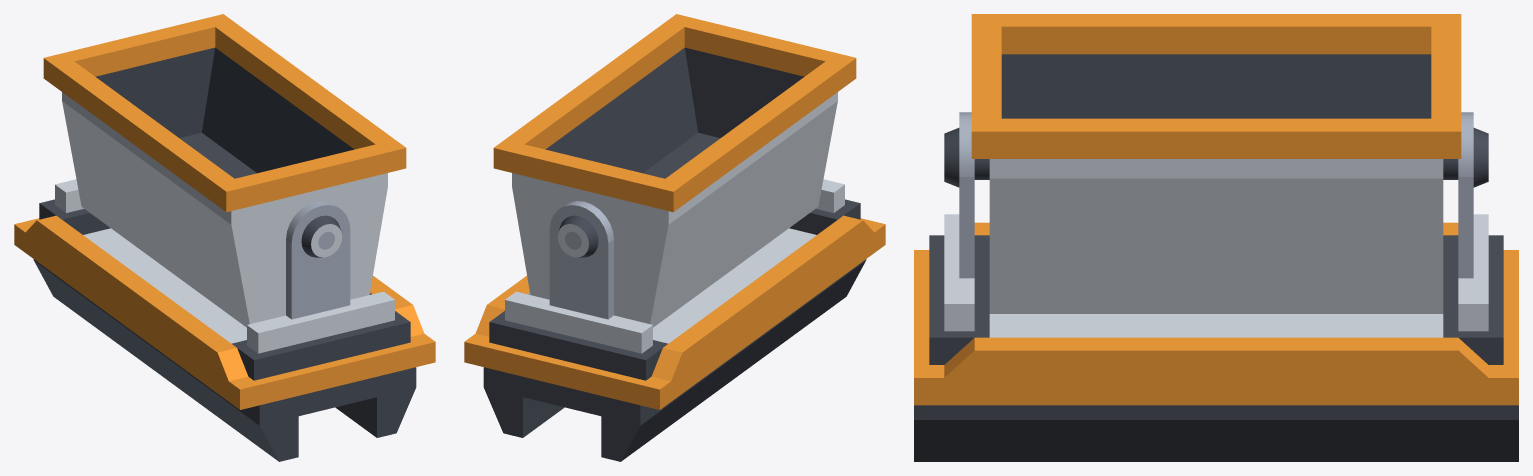
The model's file is monorail_trainCargo.obj.
The picture shows the model from 3 angles, left to right: view 1: azimuth 30°, elevation 25°; view 2: azimuth 150°, elevation 25°; view 3: azimuth 270°, elevation 25°; orthographic projection. The views are drawn at different scales.
Parts seen in each view (by area): view 1: load, monorail_trainCargo; view 2: load, monorail_trainCargo; view 3: load, monorail_trainCargo.
Part boxes in pixels (left/top/right/bottom): load: left=43, top=14, right=406, bottom=327; monorail_trainCargo: left=14, top=179, right=435, bottom=461; load: left=493, top=14, right=856, bottom=327; monorail_trainCargo: left=464, top=179, right=885, bottom=461; load: left=971, top=14, right=1461, bottom=313; monorail_trainCargo: left=914, top=112, right=1518, bottom=461.
Size of the model in its own units: 0.5 by 0.64 by 1.
